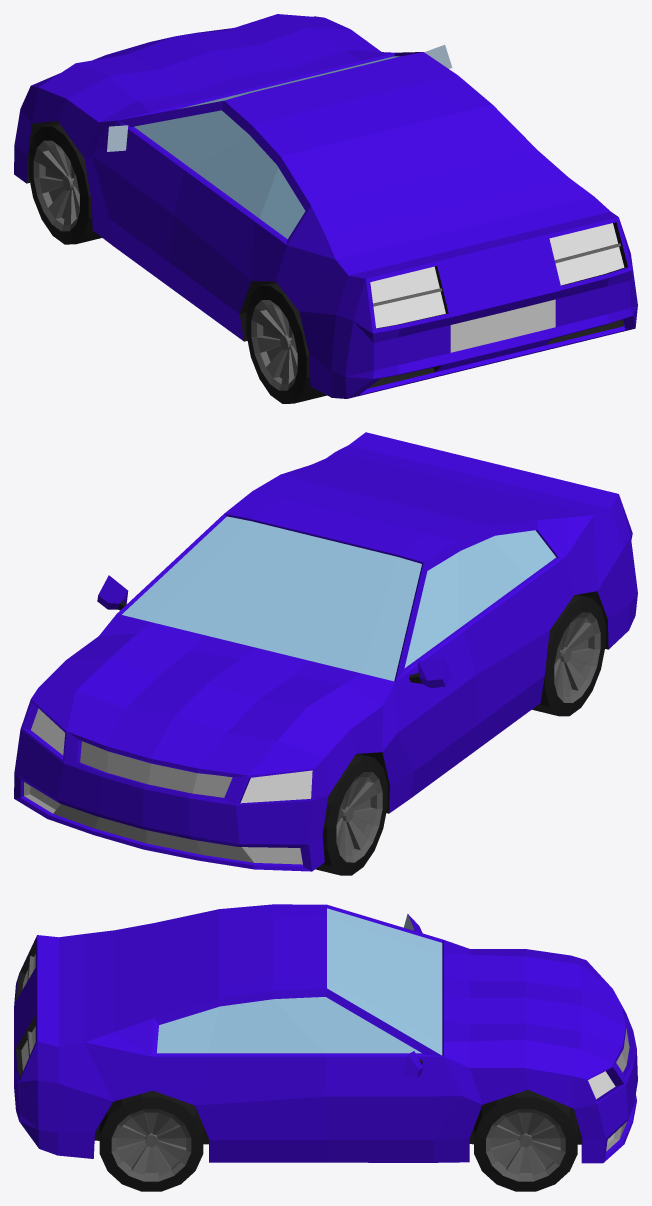
The model's file is Car_final.fbx.
3 renders of one model, top to bottom at view 1: azimuth 30°, elevation 25°; view 2: azimuth 150°, elevation 25°; view 3: azimuth 270°, elevation 25°, orthographic. The views are drawn at different scales.
Parts seen in each view (by area): view 1: Car, wheel_BL, wheel_FL; view 2: Car, wheel_FL, wheel_BL; view 3: Car, wheel_FR, wheel_BR.
Part boxes in pixels (x1,y1,x2,y2): Car: [14, 14, 637, 398]; wheel_BL: [246, 282, 326, 403]; wheel_FL: [28, 122, 101, 244]; Car: [14, 432, 637, 871]; wheel_FL: [315, 753, 387, 875]; wheel_BL: [532, 594, 605, 716]; Car: [14, 904, 637, 1163]; wheel_FR: [474, 1089, 577, 1191]; wheel_BR: [99, 1090, 203, 1191].
Bounding box in the file's own units: 242 × 437 × 142.
